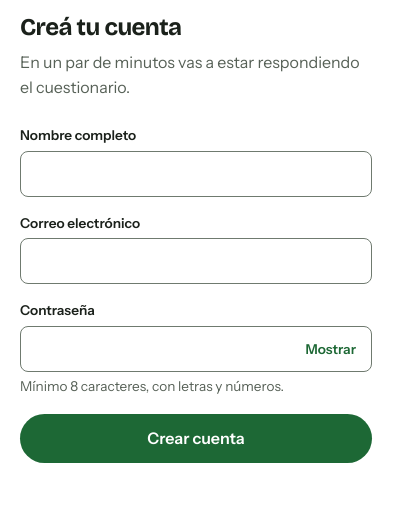
RegisterPage › muestra el error de correo repetido con enlace a inicio de sesión
This screenshot has width=393, height=527.
Type "Valeria Mora" into the field labelled "Nombre completo". click: (196, 174)
box: [20,151,372,197]
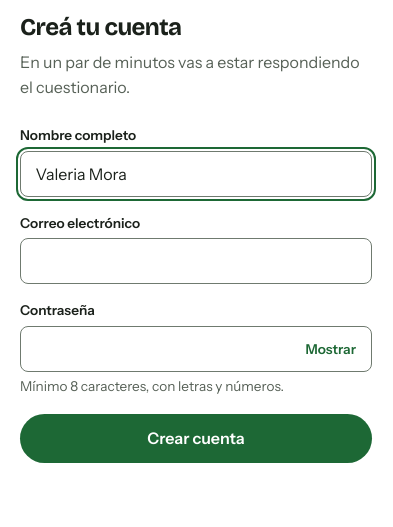
Type "valeria@ejemplo.cr" into the field labelled "Correo electrónico". click: (196, 262)
box: [20,238,372,284]
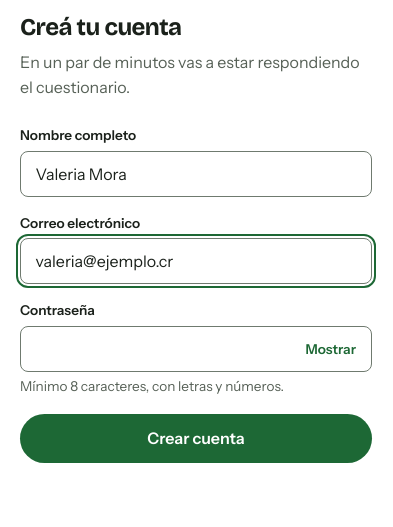
Type "clave1234" into the password field labelled "Contraseña". click: (196, 349)
box: [20,326,372,372]
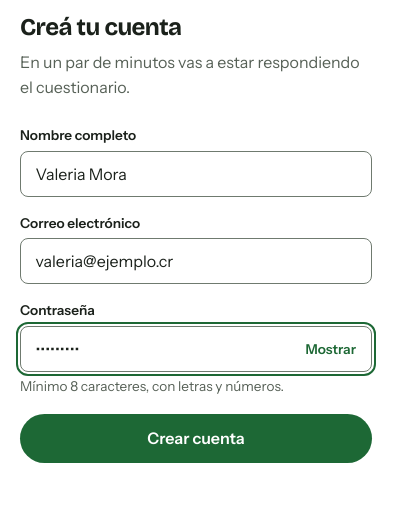
Click the button "Crear cuenta". click: click(196, 438)
box: [20,414,372,463]
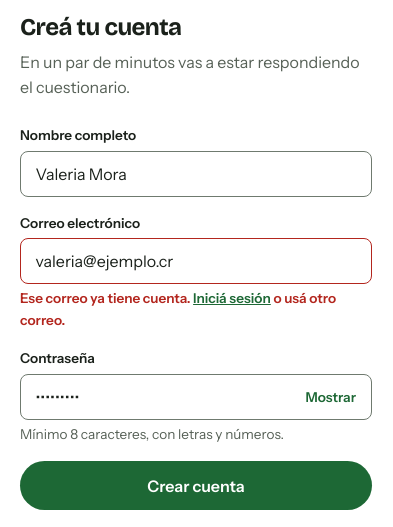
Check: the text "Ese correo ya tiene cuenta. Iniciá sesión o usá otro correo." is shown, box [20,288,372,332]
